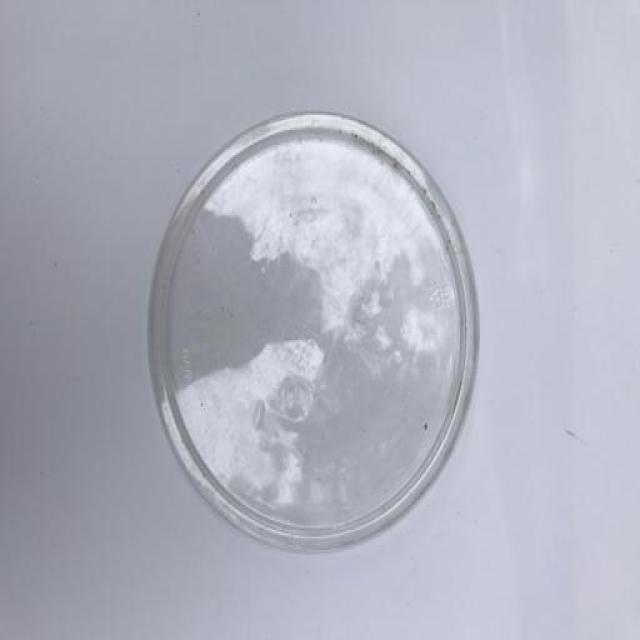Plastic: (144, 108, 482, 555)
